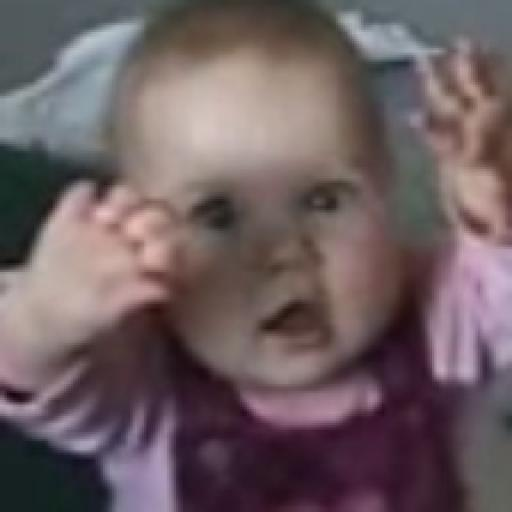Autism: (84, 0, 466, 415)
